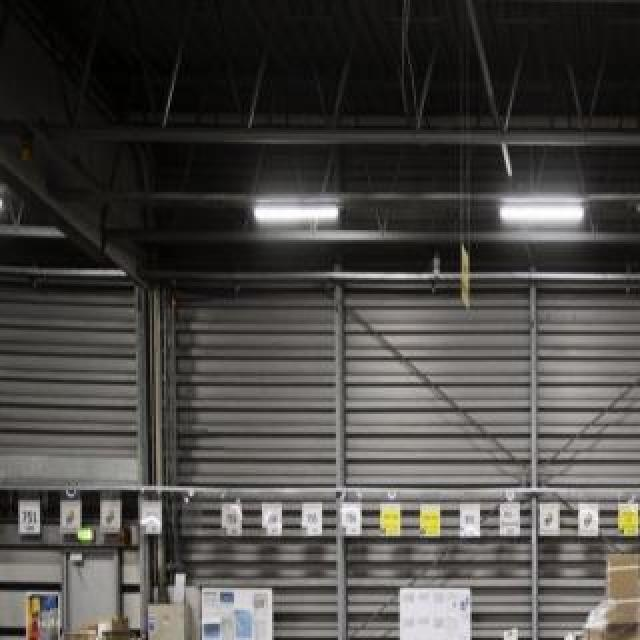fluorescent tube: (251, 196, 349, 231), (487, 198, 593, 226)
